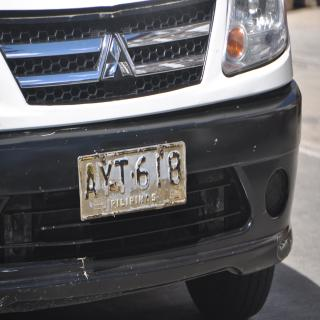license: (79, 142, 187, 221)
